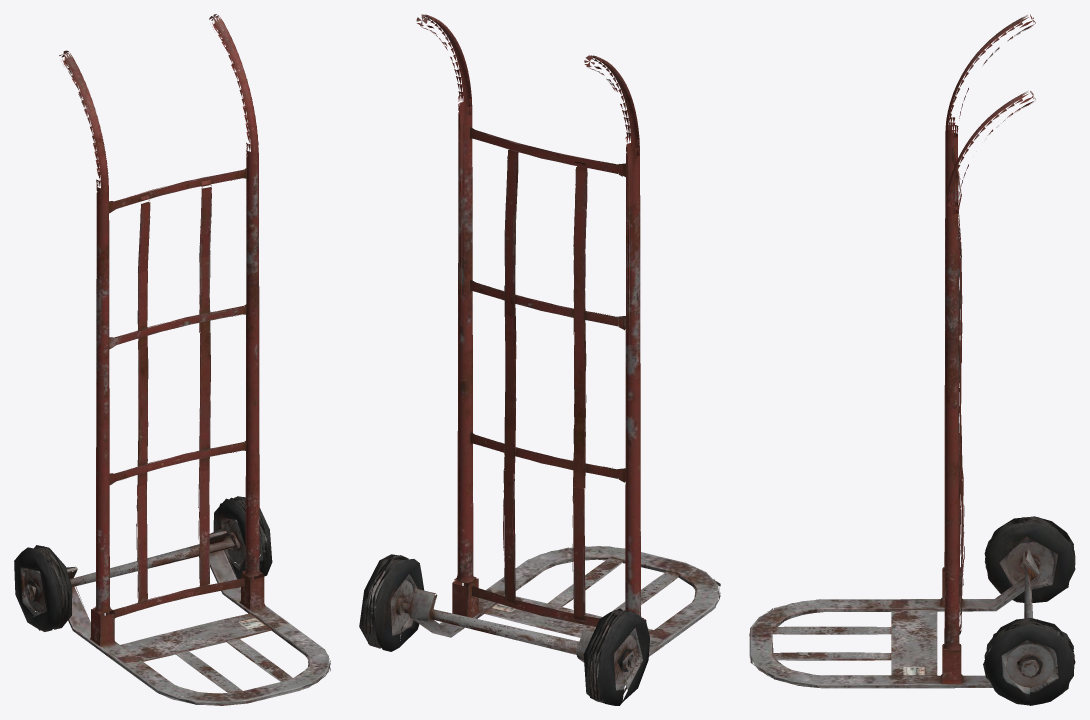
Rendered from hand_truck.gltf.
The picture shows the model from 3 angles, left to right: view 1: azimuth 30°, elevation 25°; view 2: azimuth 150°, elevation 25°; view 3: azimuth 270°, elevation 25°; orthographic projection. The views are drawn at different scales.
Visible parts, largest first — view 1: hand_truck; view 2: hand_truck; view 3: hand_truck.
Boxes of the visible parts, left/top/right/bottom form: hand_truck: left=14, top=14, right=330, bottom=705; hand_truck: left=359, top=14, right=720, bottom=705; hand_truck: left=749, top=14, right=1075, bottom=705.
Size of the model in its own units: 0.5933 by 1.41 by 0.6932.
Materials: 1 (1 with a texture image).
